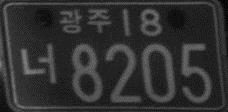0: (141, 43, 176, 104)
1: (119, 6, 132, 37)
2: (106, 42, 142, 104)
5: (177, 41, 212, 103)
8: (69, 43, 104, 104), (139, 7, 162, 37)
광주_O: (59, 6, 112, 34)
너: (19, 41, 57, 84)
